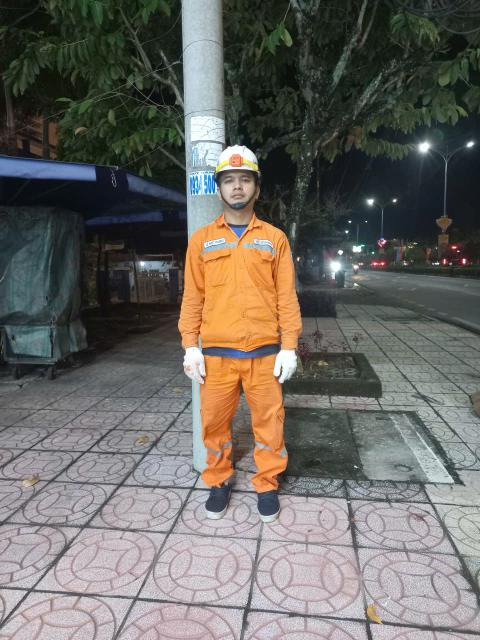gloves: (181, 340, 216, 389), (266, 349, 304, 384)
helmet: (206, 136, 265, 187)
shoes: (198, 473, 246, 523), (255, 466, 286, 519)
